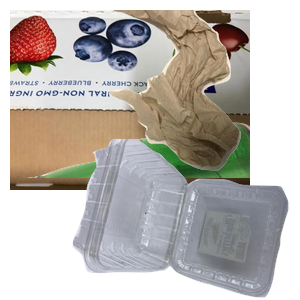cardboard: (10, 10, 250, 190)
glass: (23, 120, 263, 300)
plastic: (70, 139, 300, 300)
trash: (103, 10, 300, 173)
